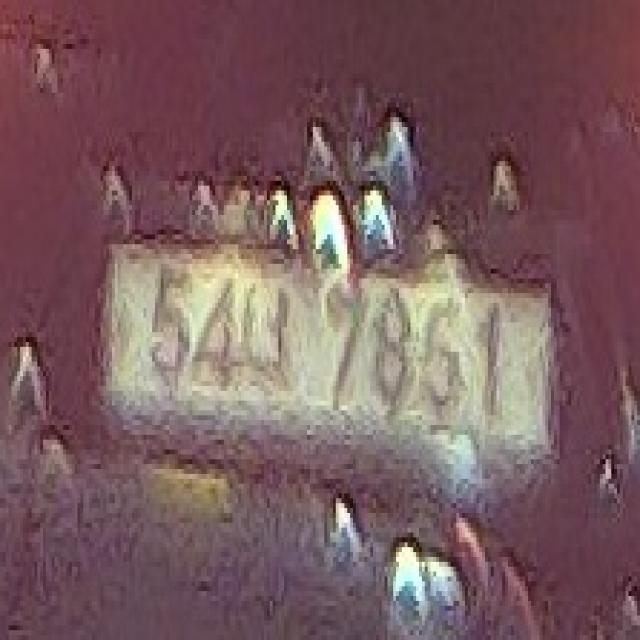1: (473, 303, 522, 420)
4: (192, 259, 244, 396)
5: (144, 259, 195, 391), (422, 288, 471, 420)
7: (316, 264, 367, 425)
8: (362, 284, 413, 421)
license_plate: (98, 225, 556, 503)
neo: (236, 269, 304, 376)
